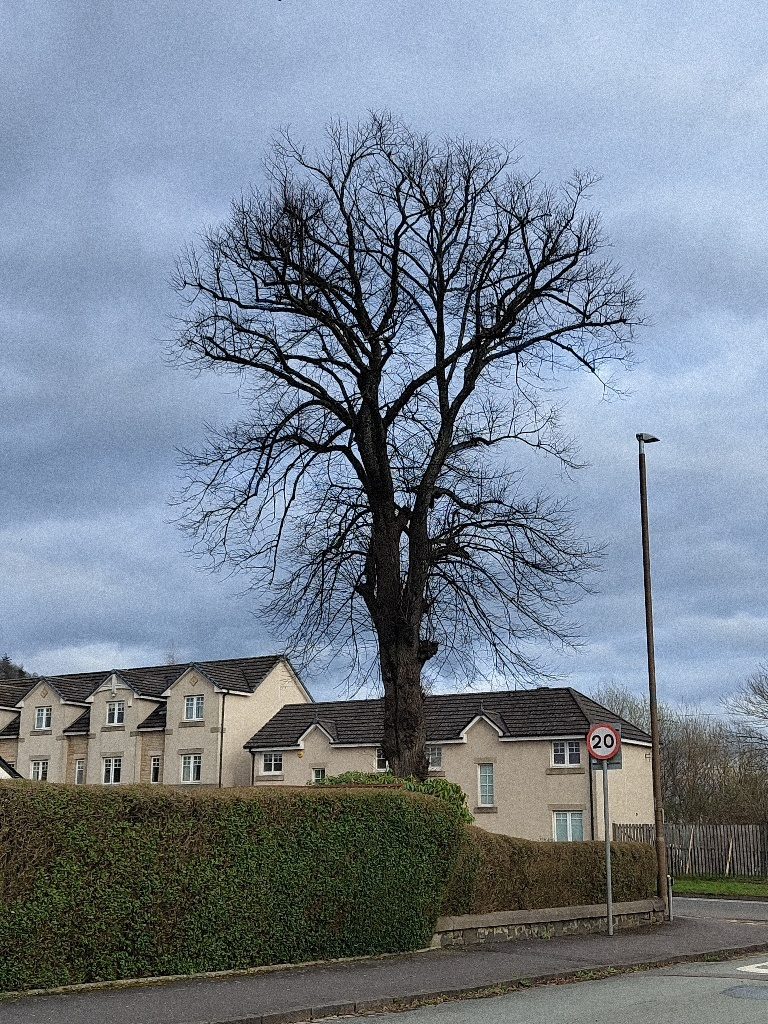Tree: (147, 98, 660, 782)
